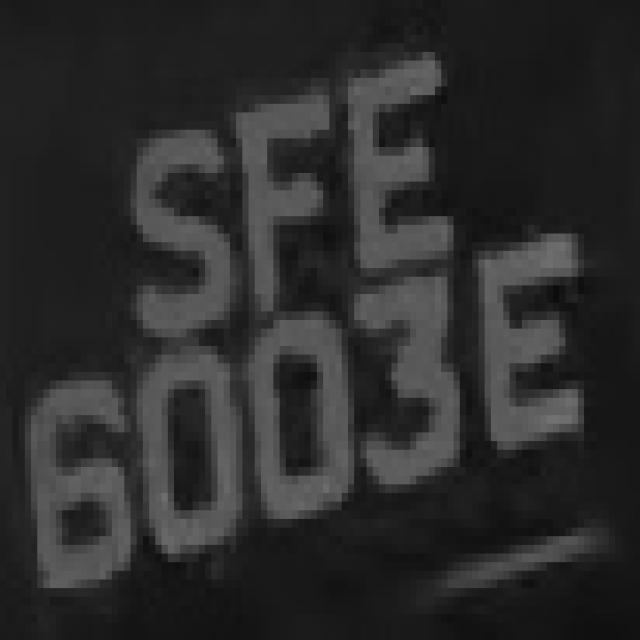0: (125, 337, 242, 597), (255, 294, 360, 562)
3: (348, 242, 454, 493)
6: (19, 346, 130, 597)
E: (460, 242, 603, 493), (330, 60, 448, 302)
F: (205, 78, 336, 337)
S: (112, 87, 255, 380)
